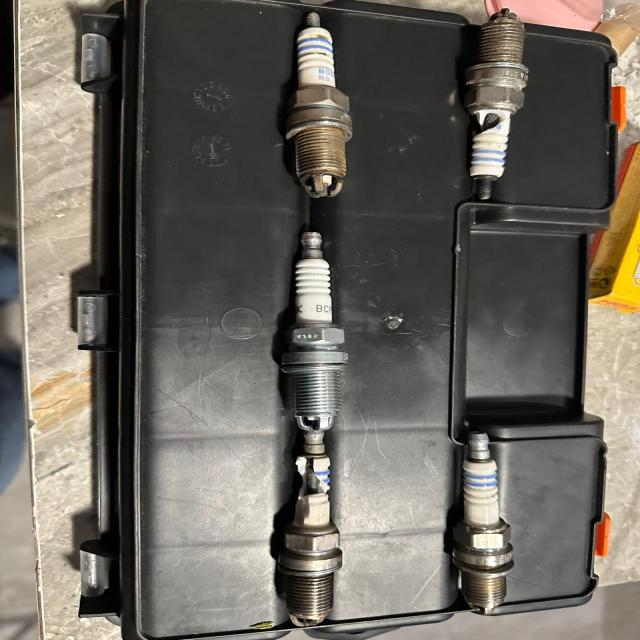damaged_spark-plug: (462, 8, 534, 206), (283, 440, 345, 622)
spark-plug: (281, 228, 353, 445), (281, 7, 356, 210), (451, 430, 514, 614)
